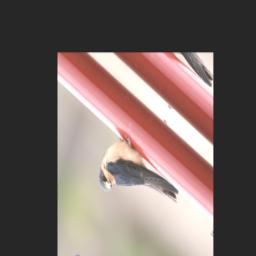Swallow: (94, 118, 184, 247)
